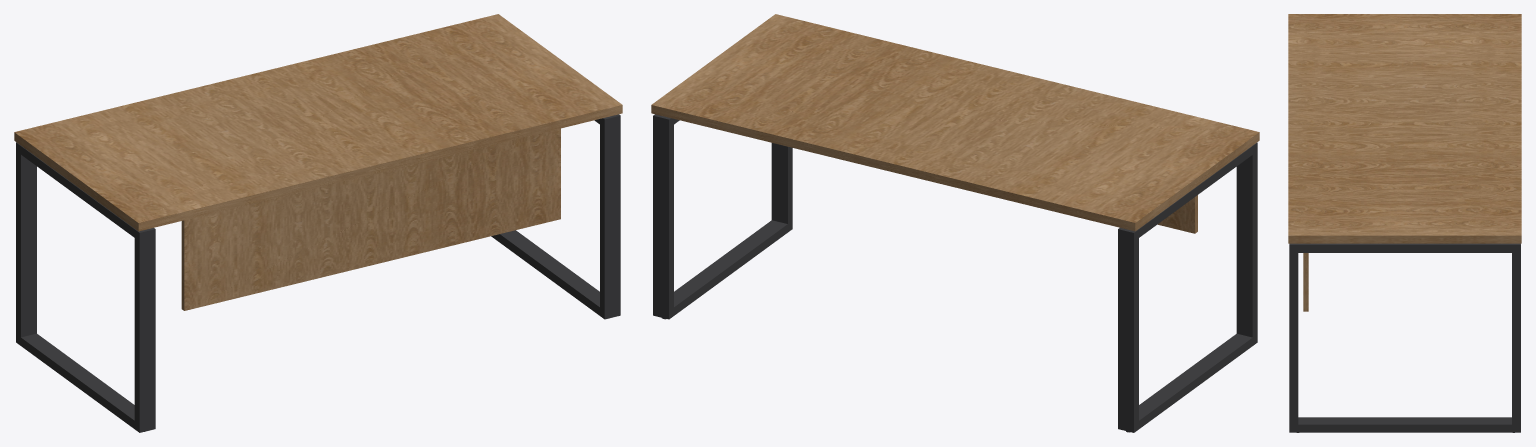
3 views of the same model, side by side, from view 1: azimuth 30°, elevation 25°; view 2: azimuth 150°, elevation 25°; view 3: azimuth 270°, elevation 25° (orthographic). The views are drawn at different scales.
Parts seen in each view (by area): view 1: Box444, Box443, Object144_Left, Object144; view 2: Box444, Object144_Left, Object144, Box443; view 3: Box444, Object144, Box443.
Boxes of the visible parts, box(x1,y1,x2,y2) form: Box444: box(14, 14, 622, 231); Box443: box(181, 128, 560, 310); Object144_Left: box(16, 142, 155, 432); Object144: box(491, 114, 620, 319); Box444: box(651, 14, 1259, 231); Object144_Left: box(1118, 142, 1257, 432); Object144: box(653, 114, 792, 319); Box443: box(1157, 195, 1197, 233); Box444: box(1288, 14, 1521, 243); Object144: box(1289, 243, 1520, 432); Box443: box(1303, 253, 1308, 311).
Bounding box in the file's own units: 1.8 × 0.7579 × 0.8.
2 materials, 1 textured.
